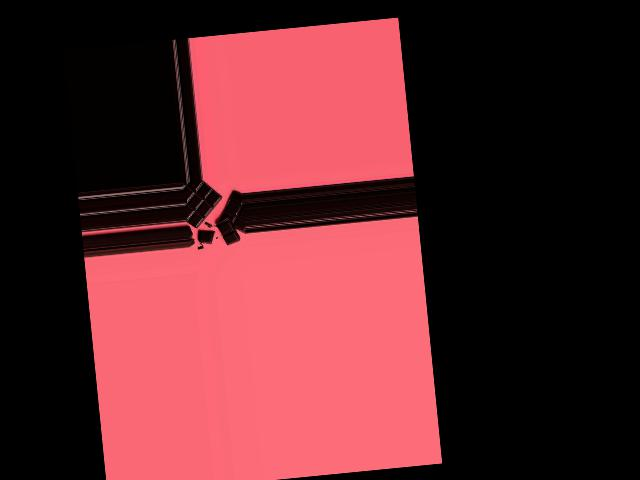chocolate: (182, 176, 242, 245)
